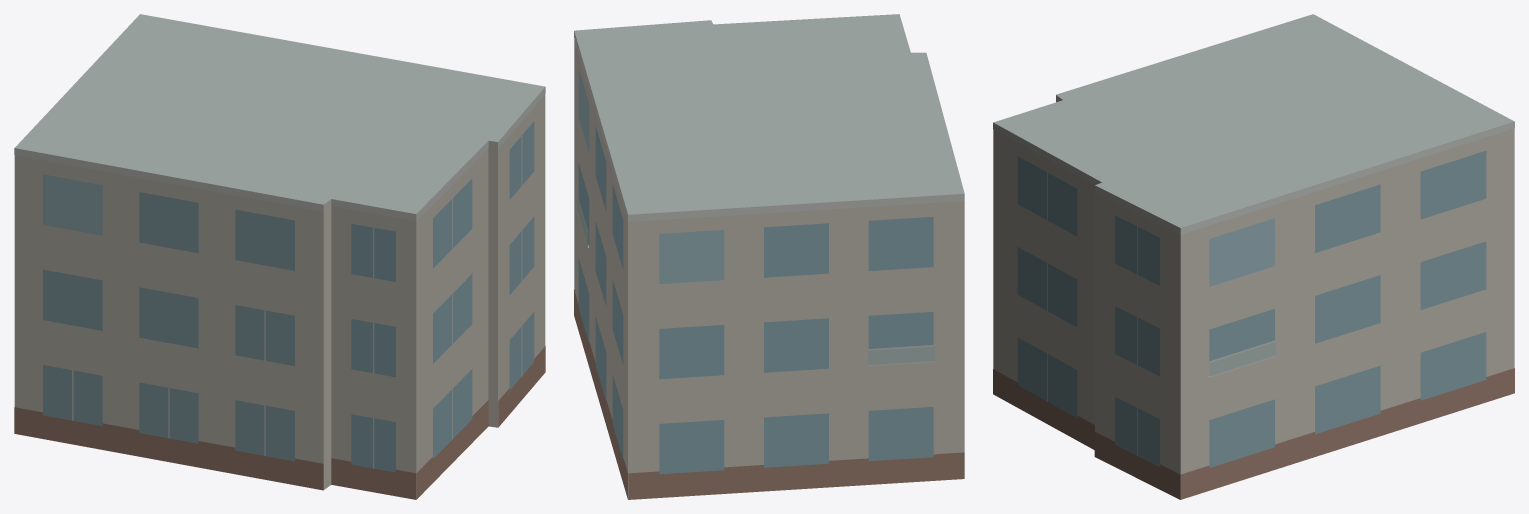
Rendered from survey-upis-32828612.glb.
3 views of the same model, side by side, from view 1: azimuth 30°, elevation 25°; view 2: azimuth 150°, elevation 25°; view 3: azimuth 270°, elevation 25° (orthographic). The views are drawn at different scales.
Parts seen in each view (by area): view 1: survey-upis-32828612.tmp; view 2: survey-upis-32828612.tmp; view 3: survey-upis-32828612.tmp.
Boxes of the visible parts, x1,y1,x2,y2 form: survey-upis-32828612.tmp: (14,14,545,499); survey-upis-32828612.tmp: (574,14,964,499); survey-upis-32828612.tmp: (993,14,1514,499).
Size of the model in its own units: 16.56 by 9.8 by 17.05.
